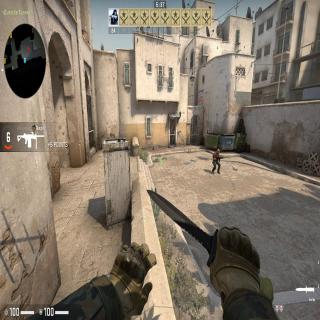T-Body: (212, 148, 222, 175)
T-Head: (217, 148, 220, 154)
